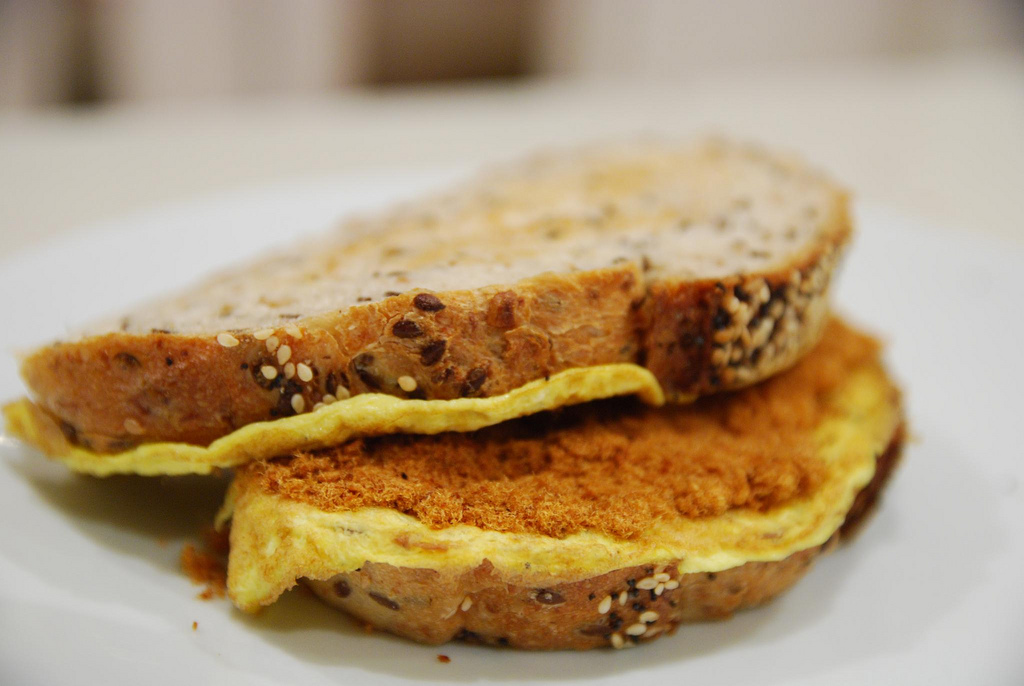slice of bread: (16, 99, 922, 647)
